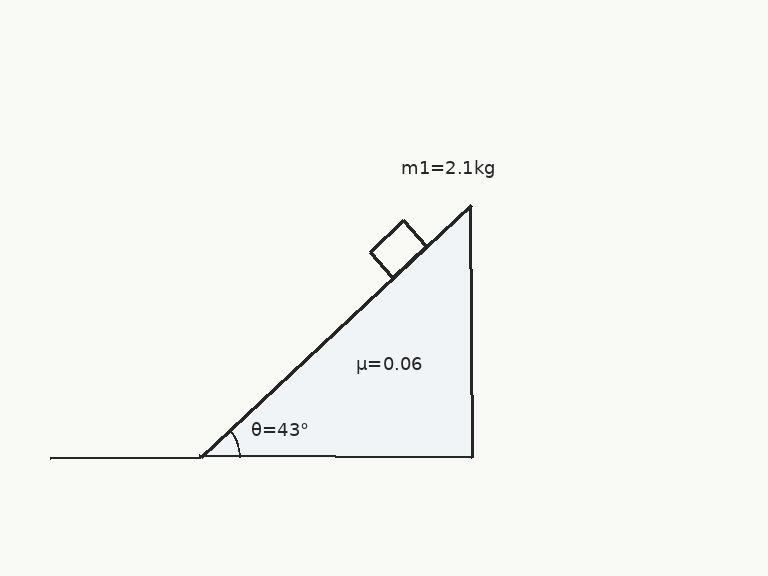block: (368, 219, 429, 279)
ramp: (198, 203, 473, 459)
